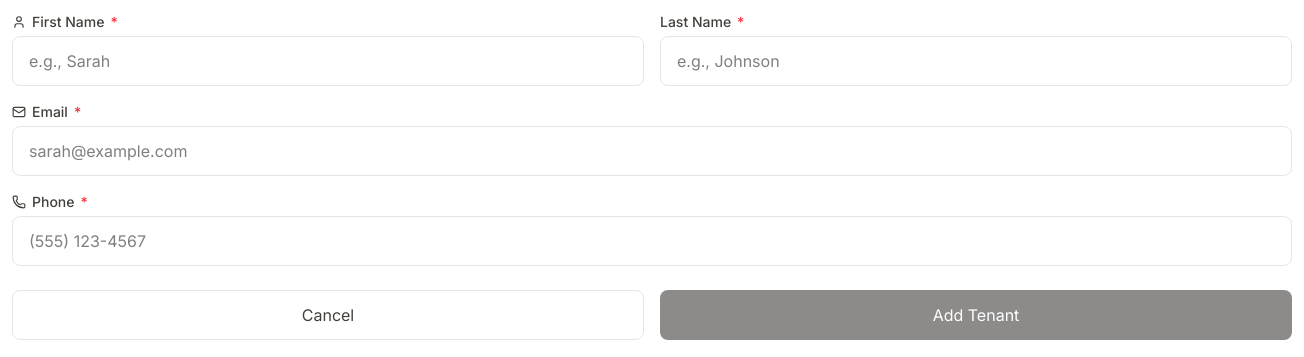
Test: CreateTenantForm › enables submit button when all required fields are filled
Type "Alex" into the field labelled "First Name *" at (328, 61), box [12,36,644,86]
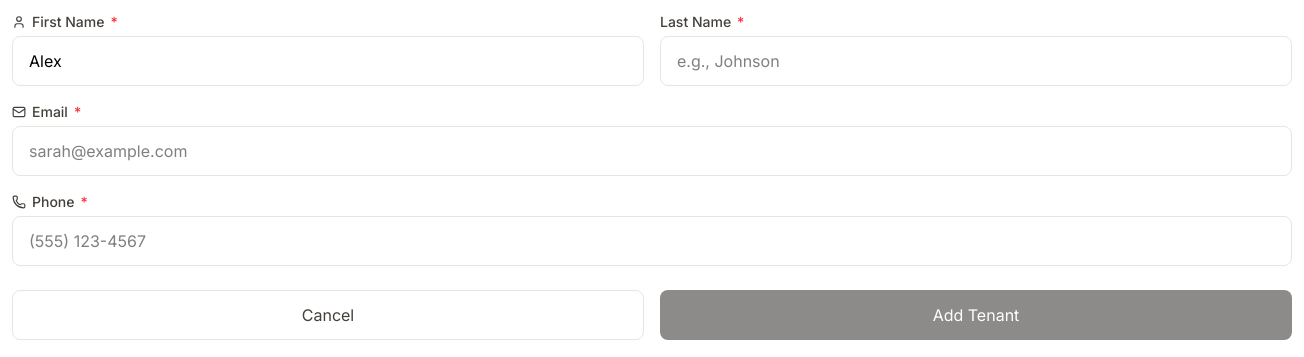
Type "Doe" into the field labelled "Last Name *" at (976, 61), box [660,36,1292,86]
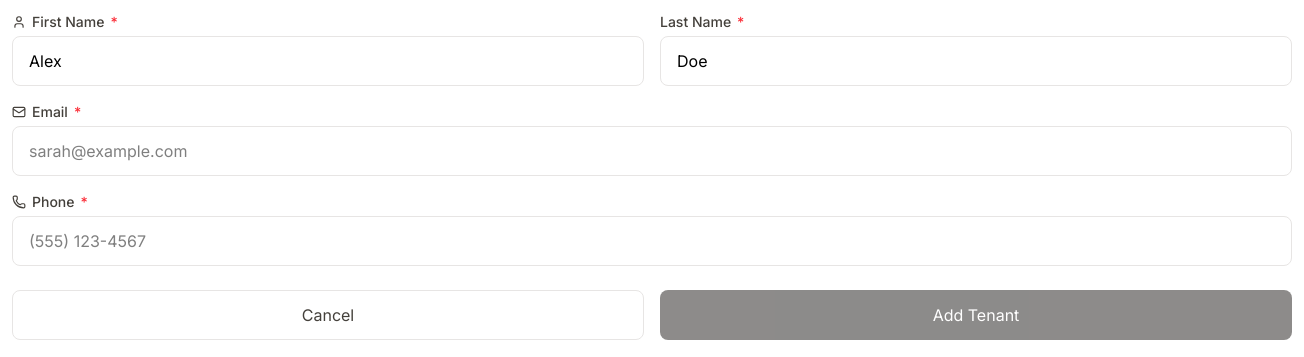
Type "alex@example.com" into the field labelled "Email *" at (652, 151), box [12,126,1292,176]
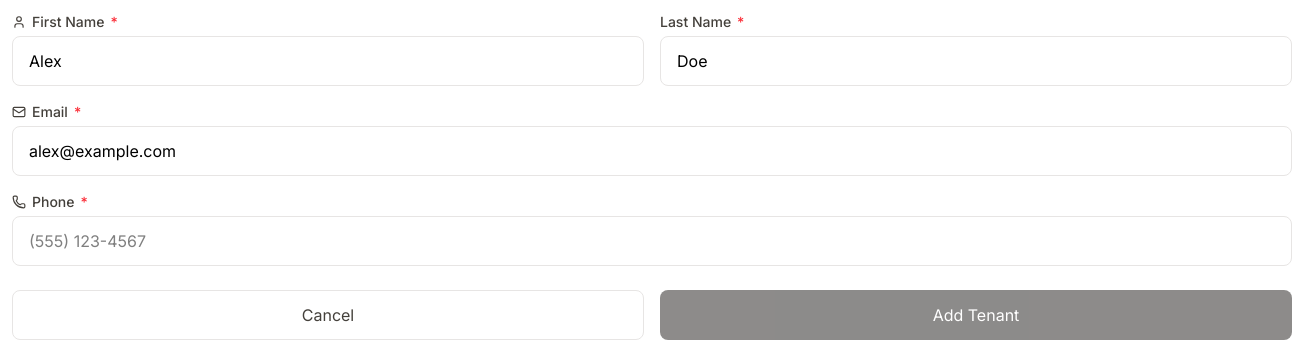
Type "555-1234" into the field labelled "Phone *" at (652, 241), box [12,216,1292,266]
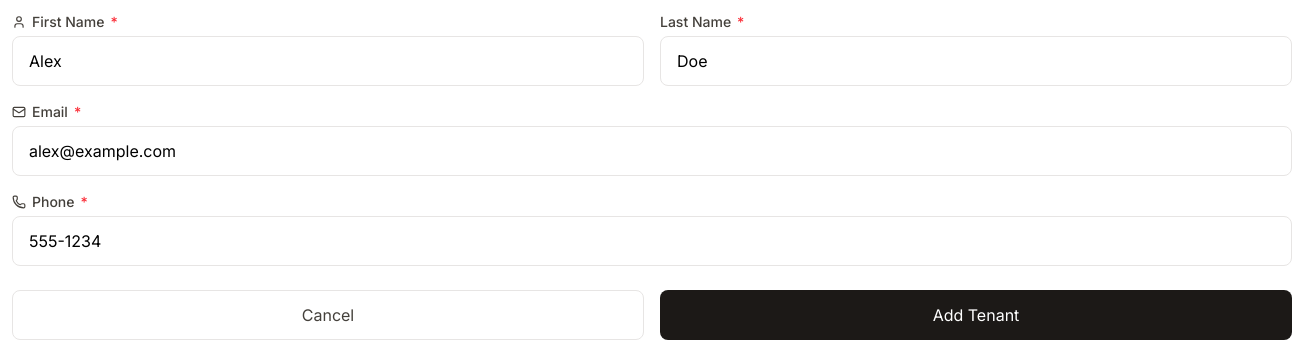
Now the button "Add Tenant" is enabled, box [660,290,1292,340]
